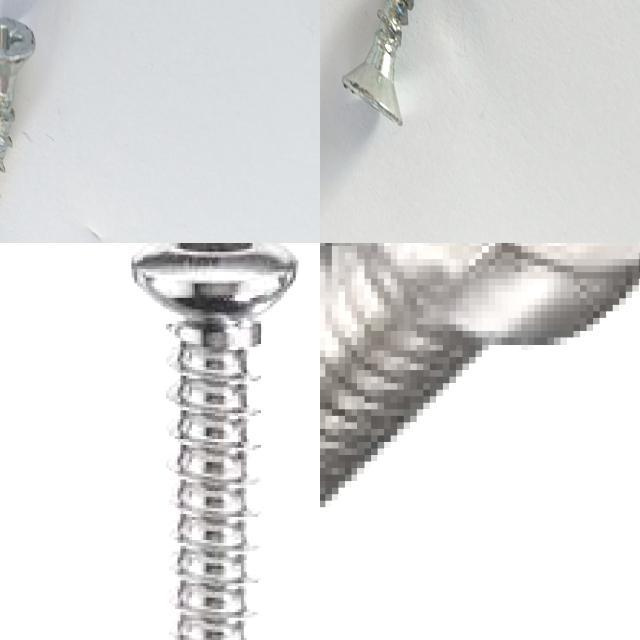Screw: (320, 243, 640, 509), (129, 243, 299, 640), (342, 0, 414, 126), (0, 17, 35, 171)
